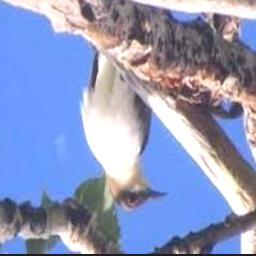Cuckoo: (81, 50, 170, 210)
